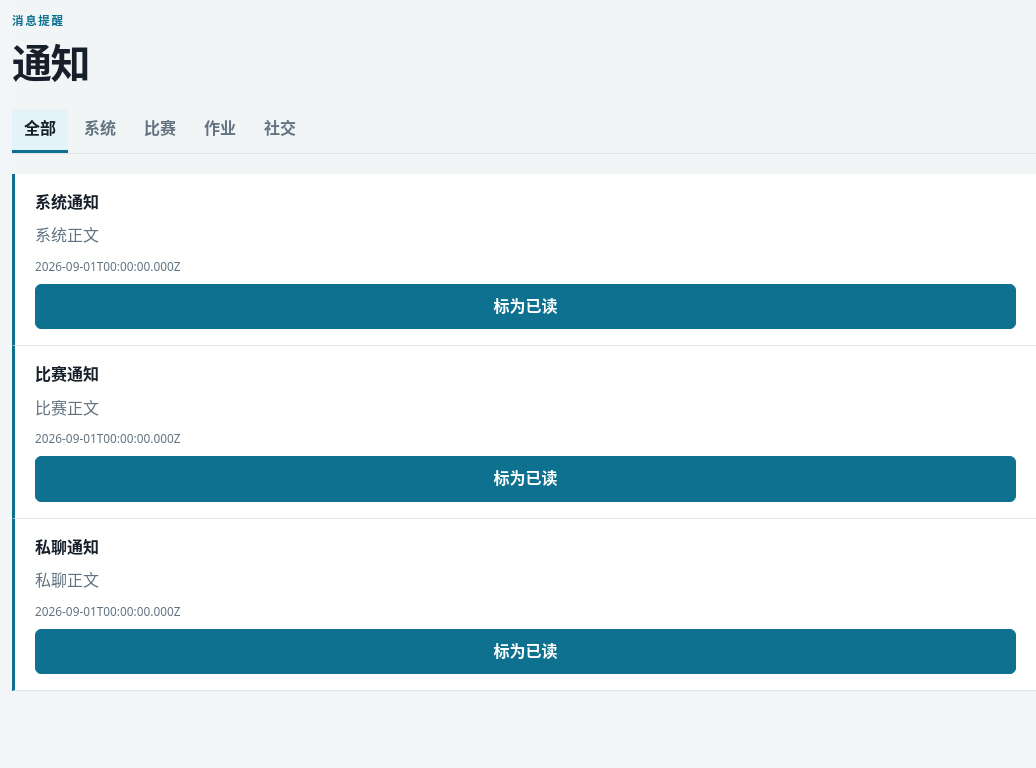
Test: Product Web Backend runtime regressions › filters notification categories without hiding the real social categories
Expected: the text "系统通知" is shown, [35,191,99,213]
Click the tab "社交" at (280, 131), box [252,109,308,153]
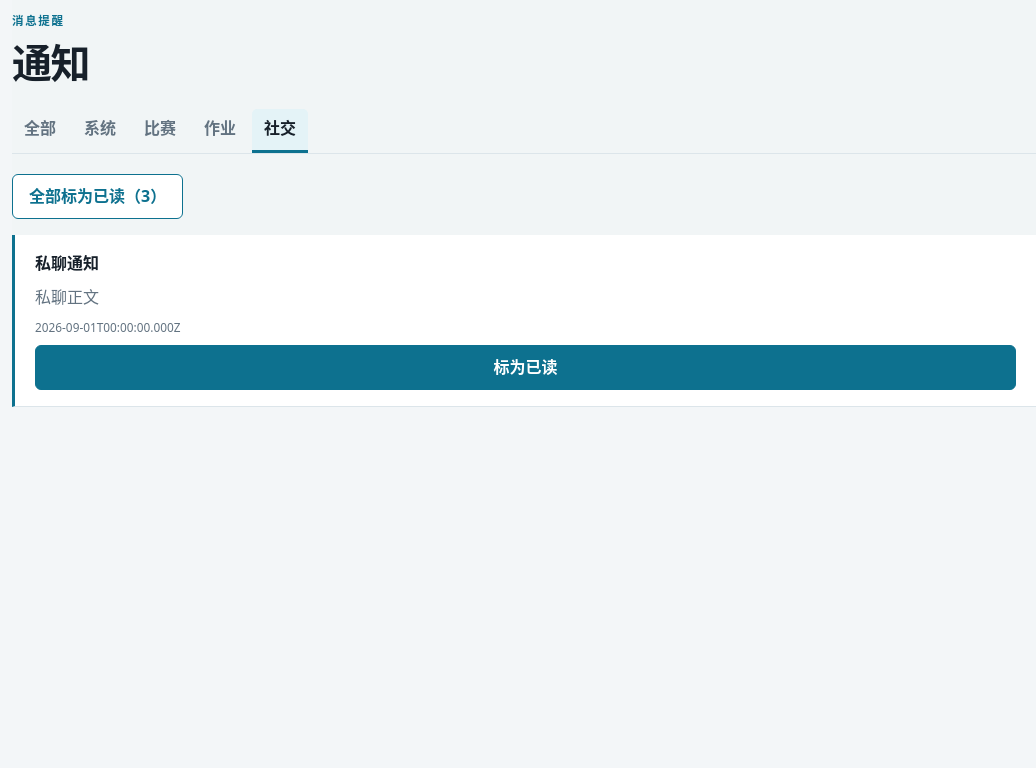
Expected: the text "私聊通知" is shown, [35,252,99,274]
Now the text "比赛通知" is gone
Now the text "系统通知" is gone
